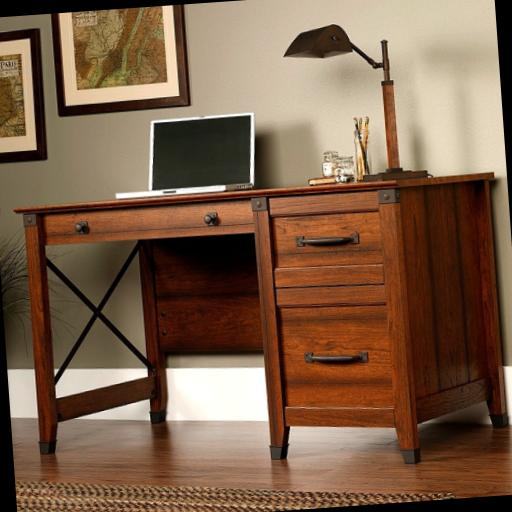desk: (13, 172, 512, 491)
wall: (0, 0, 512, 458)
